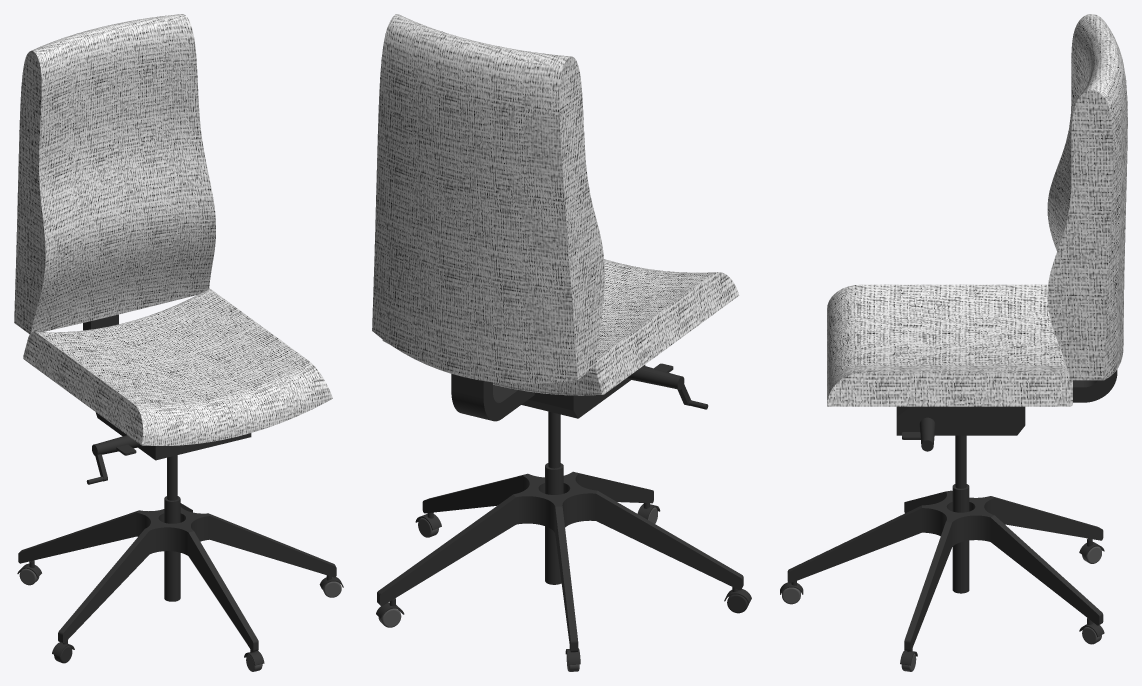
File: VOLMAR_Swivel_Chair.obj
3 views of the same model, side by side, from view 1: azimuth 30°, elevation 25°; view 2: azimuth 150°, elevation 25°; view 3: azimuth 270°, elevation 25° (orthographic). The views are drawn at different scales.
Visible parts, largest first — view 1: Revit_000252_10, Revit_000252_01, Revit_000253_23, Revit_000253_19, Revit_000253_31, Revit_000253_27, Revit_000253_32, Revit_000253_09, Revit_001237_11; view 2: Revit_000252_10, Revit_000252_01, Revit_000253_27, Revit_000253_15, Revit_000253_31, Revit_001237_07, Revit_000253_23, Revit_000253_19, Revit_001237_11, Revit_000253_09, Revit_000253_32, Revit_000253_08 (+1 smaller); view 3: Revit_000252_01, Revit_000252_10, Revit_001237_11, Revit_000253_32, Revit_000253_15, Revit_000253_31, Revit_000253_19, Revit_000253_23, Revit_000253_09, Revit_001237_07, Revit_000253_08.
Part boxes in pixels (<box>): Revit_000252_10: <box>14,14,215,334</box>; Revit_000252_01: <box>23,288,332,445</box>; Revit_000253_23: <box>209,513,336,577</box>; Revit_000253_19: <box>18,510,138,563</box>; Revit_000253_31: <box>136,507,209,555</box>; Revit_000253_27: <box>58,529,149,643</box>; Revit_000253_32: <box>188,531,258,651</box>; Revit_000253_09: <box>164,496,180,601</box>; Revit_001237_11: <box>95,412,251,460</box>; Revit_000252_10: <box>372,14,604,384</box>; Revit_000252_01: <box>382,259,738,395</box>; Revit_000253_27: <box>596,491,743,590</box>; Revit_000253_15: <box>377,494,516,606</box>; Revit_000253_31: <box>513,471,597,533</box>; Revit_001237_07: <box>451,374,534,421</box>; Revit_000253_23: <box>422,474,526,513</box>; Revit_000253_19: <box>555,506,578,652</box>; Revit_001237_11: <box>521,365,645,418</box>; Revit_000253_09: <box>545,463,563,584</box>; Revit_000253_32: <box>579,473,653,503</box>; Revit_000253_08: <box>548,411,560,468</box>; Revit_000252_01: <box>827,284,1072,406</box>; Revit_000252_10: <box>1047,14,1127,380</box>; Revit_001237_11: <box>896,406,1025,435</box>; Revit_000253_32: <box>787,505,921,583</box>; Revit_000253_15: <box>990,515,1103,625</box>; Revit_000253_31: <box>922,490,994,546</box>; Revit_000253_19: <box>992,496,1103,540</box>; Revit_000253_23: <box>904,522,951,651</box>; Revit_000253_09: <box>952,484,969,593</box>; Revit_001237_07: <box>1073,369,1117,402</box>; Revit_000253_08: <box>955,435,966,488</box>.
Size of the model in its own units: 620 by 1086 by 622.
